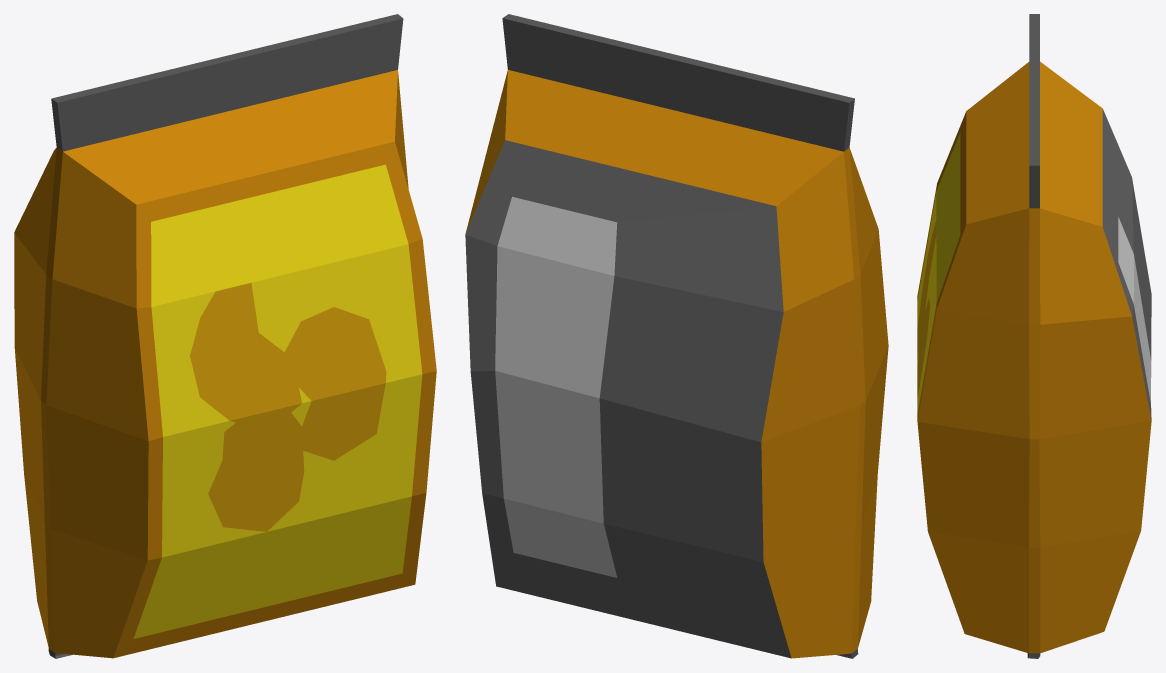
The model's file is Salt & Vinegar Potato Chips Large.fbx.
3 views of the same model, side by side, from view 1: azimuth 30°, elevation 25°; view 2: azimuth 150°, elevation 25°; view 3: azimuth 270°, elevation 25° (orthographic). The views are drawn at different scales.
Visible parts, largest first — view 1: Salt & Vinegar Potato Chips Large; view 2: Salt & Vinegar Potato Chips Large; view 3: Salt & Vinegar Potato Chips Large.
Part boxes in pixels (x1,y1,x2,y2): Salt & Vinegar Potato Chips Large: (14, 14, 436, 658); Salt & Vinegar Potato Chips Large: (465, 14, 888, 658); Salt & Vinegar Potato Chips Large: (917, 14, 1151, 658).
Size of the model in its own units: 38.31 by 55.33 by 23.57.
Materials: 1 (1 with a texture image).
